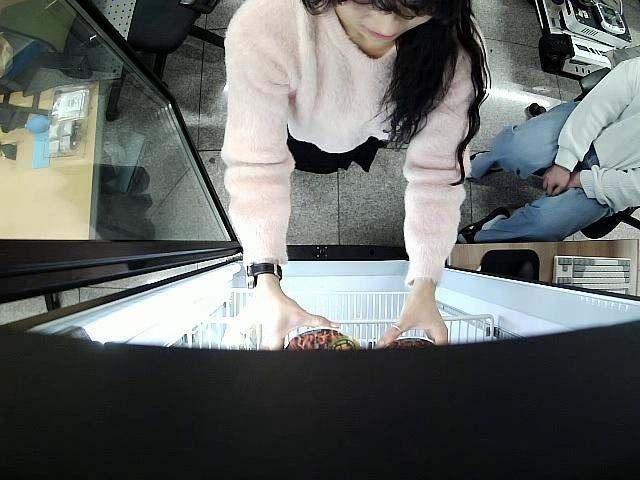03_chapagetti_L: (281, 326, 362, 352)
